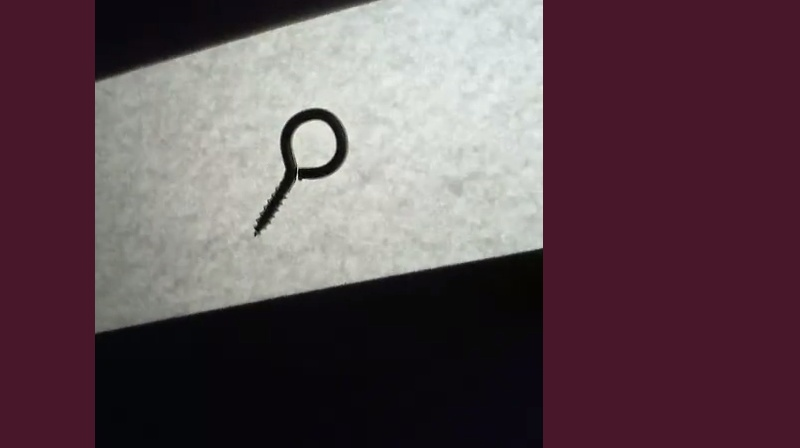O001: (250, 105, 351, 240)
